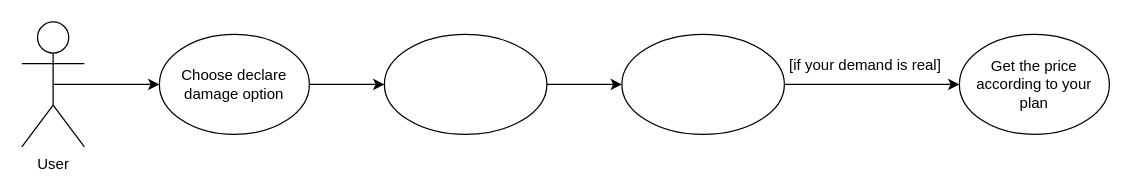
The diagram is 1131 pixels wide and 195 high, and some of its shapes have lost their labels. The shapes that lost their labels are listed below. From the top down, each one's centre as x and y in pixels, then its label:
At (465,83): "Provide required documents".
At (702,83): "Wait for judgement".
